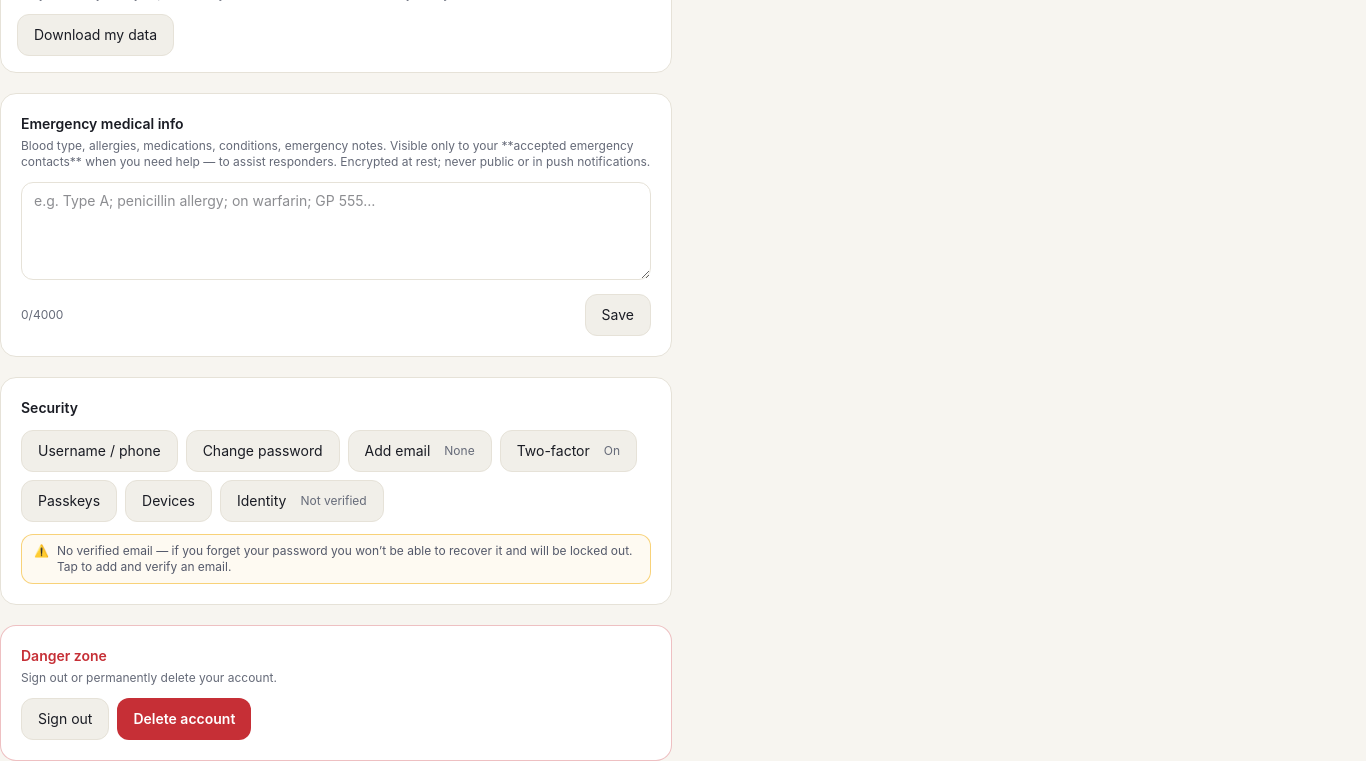
Test: 两步验证恢复码剩余数：英文单复数正确 › 剩 1 个恢复码 → "1 recovery code left"（单数，非 codes）
(page scrolled)
Click the button "Two-factor On": (568, 451) [500,430,637,472]
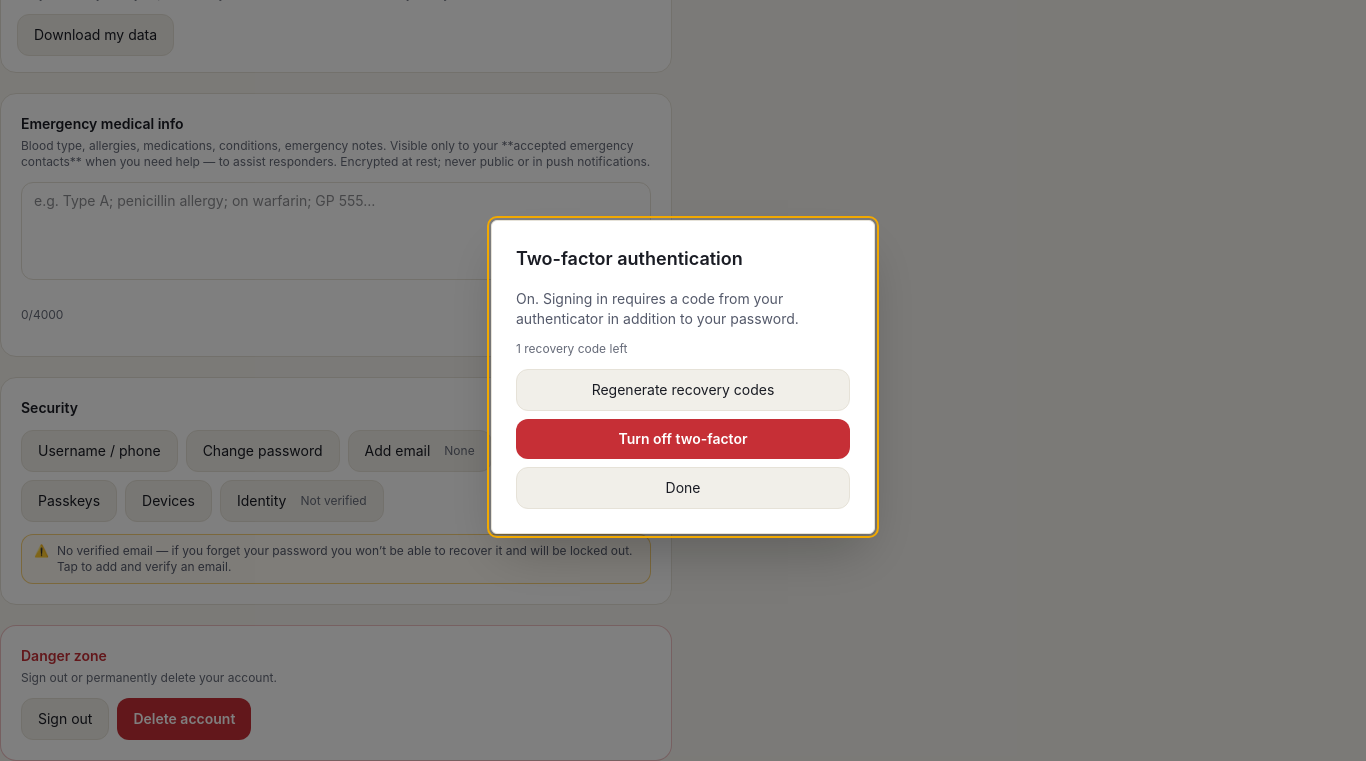
Expected: the text "1 recovery code left" is shown, [516,341,627,356]
